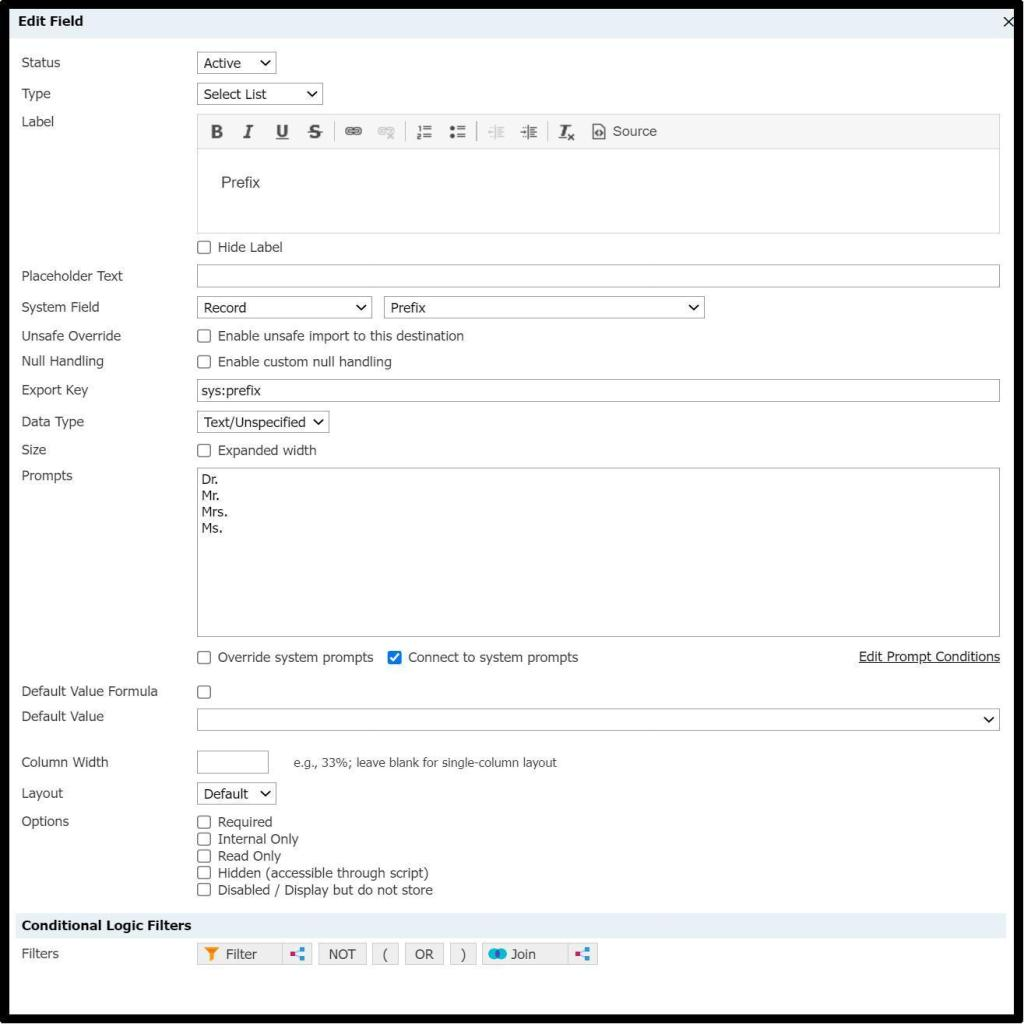button: (483, 943, 598, 965), (196, 944, 312, 965), (318, 942, 368, 965), (404, 944, 445, 965)
checkbox: (198, 354, 212, 370), (196, 650, 211, 664), (196, 240, 210, 254), (388, 651, 401, 664), (196, 329, 210, 341), (197, 686, 210, 698), (198, 816, 210, 828), (198, 446, 210, 458), (198, 850, 209, 862), (199, 866, 210, 878), (198, 884, 209, 895), (199, 834, 211, 844)
dropdown: (199, 709, 998, 729), (385, 297, 705, 318), (197, 297, 372, 317), (198, 412, 328, 433), (197, 84, 322, 104), (197, 51, 276, 74), (196, 782, 276, 804)
icon: (556, 120, 578, 144), (485, 122, 509, 142), (516, 122, 540, 142), (271, 124, 296, 143), (304, 121, 324, 143), (238, 123, 262, 141), (447, 123, 469, 141), (374, 124, 398, 140), (342, 123, 364, 140), (590, 122, 608, 142), (414, 123, 433, 141), (210, 124, 228, 141)
input: (198, 378, 1000, 402), (198, 264, 999, 286), (198, 752, 268, 774)
label: (216, 326, 470, 343), (407, 651, 580, 669), (219, 866, 428, 880), (217, 355, 394, 371), (214, 650, 379, 667), (217, 885, 433, 896), (215, 443, 319, 460), (217, 831, 299, 847), (217, 238, 286, 256), (216, 849, 282, 863), (216, 816, 276, 830)
